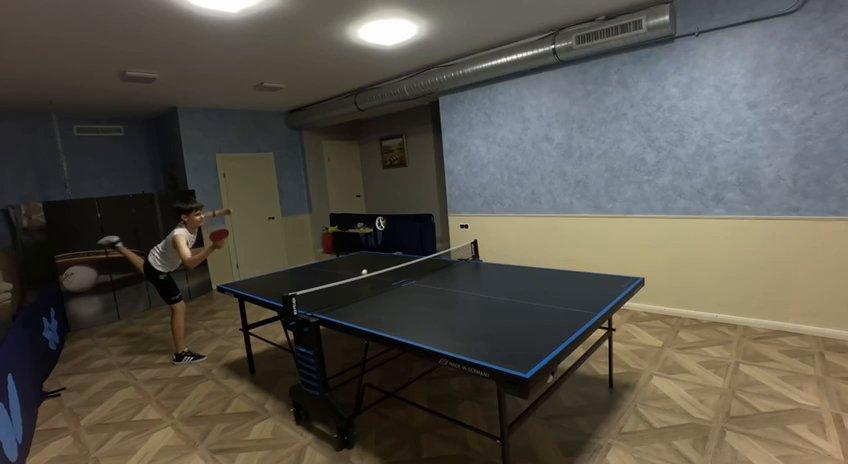Ball: (360, 268, 370, 278)
Net: (283, 240, 481, 321)
Player1: (113, 198, 230, 352)
Table: (222, 253, 640, 377)
